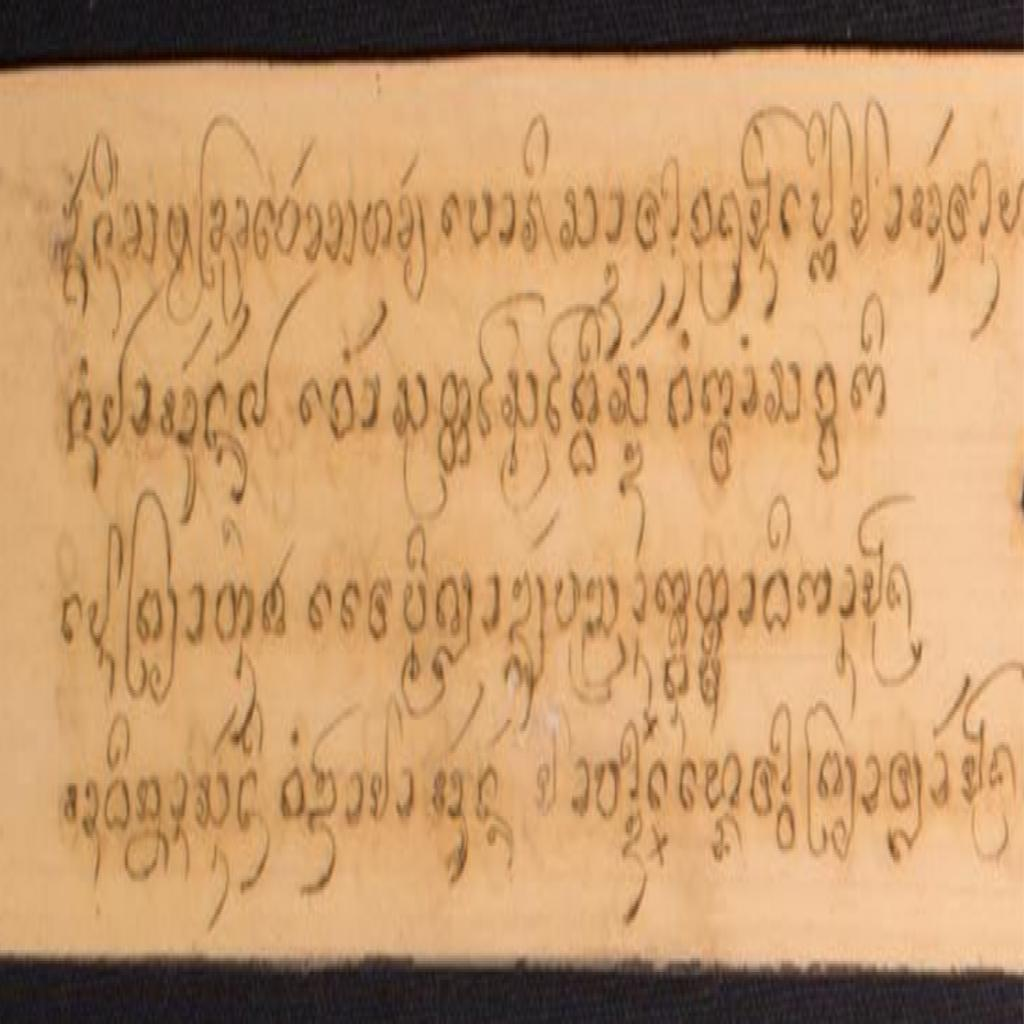LN022: (103, 773, 133, 838)
